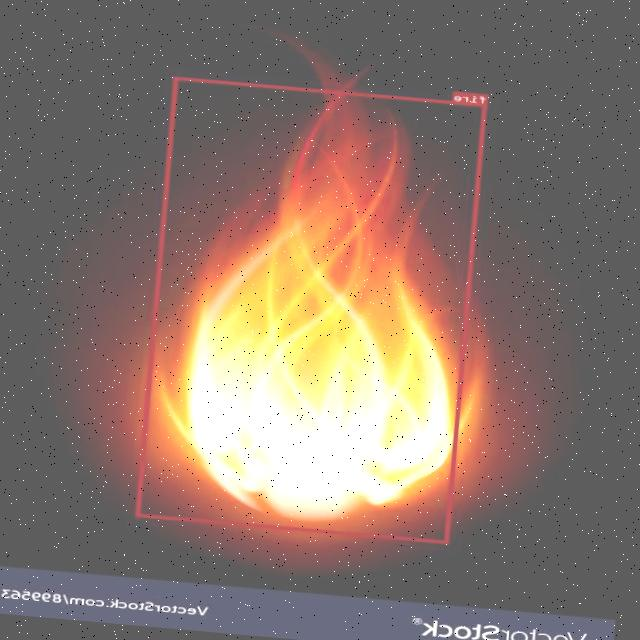fire: (137, 76, 487, 543)
